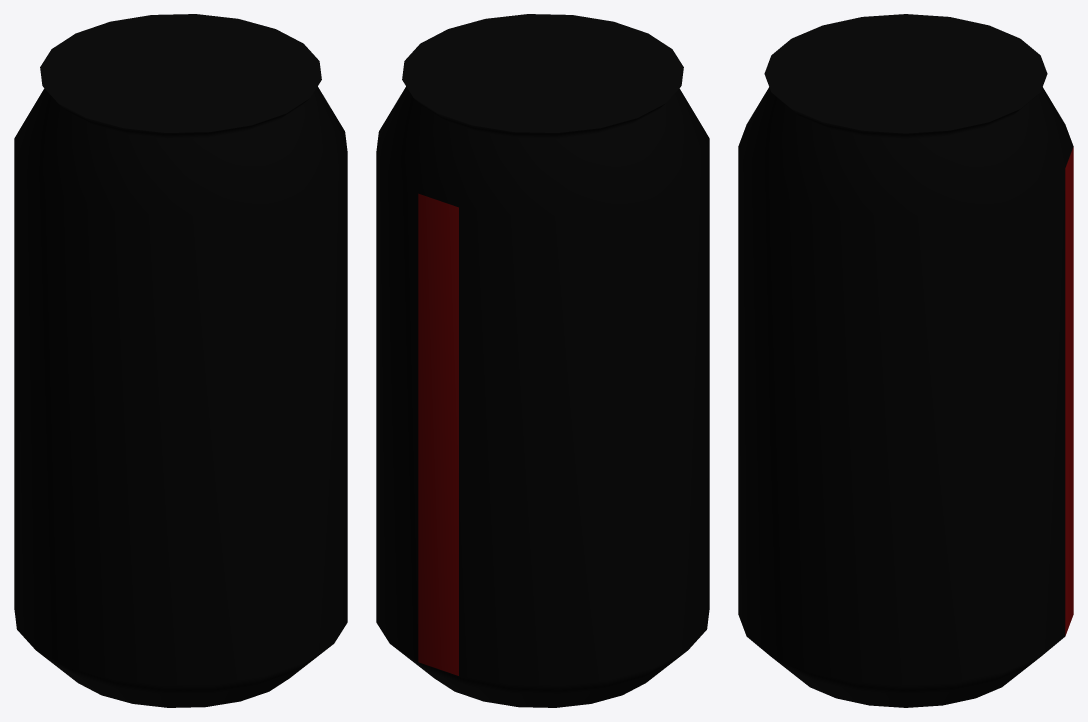
The model's file is Coke Can.fbx.
3 renders of one model, left to right at view 1: azimuth 30°, elevation 25°; view 2: azimuth 150°, elevation 25°; view 3: azimuth 270°, elevation 25°, orthographic.
Visible parts, largest first — view 1: pCylinder1; view 2: pCylinder1; view 3: pCylinder1.
Boxes of the visible parts, x1,y1,x2,y2 form: pCylinder1: (14, 14, 347, 707); pCylinder1: (376, 14, 709, 707); pCylinder1: (738, 14, 1073, 707).
Size of the model in its own units: 3.65 by 7.01 by 3.65.
